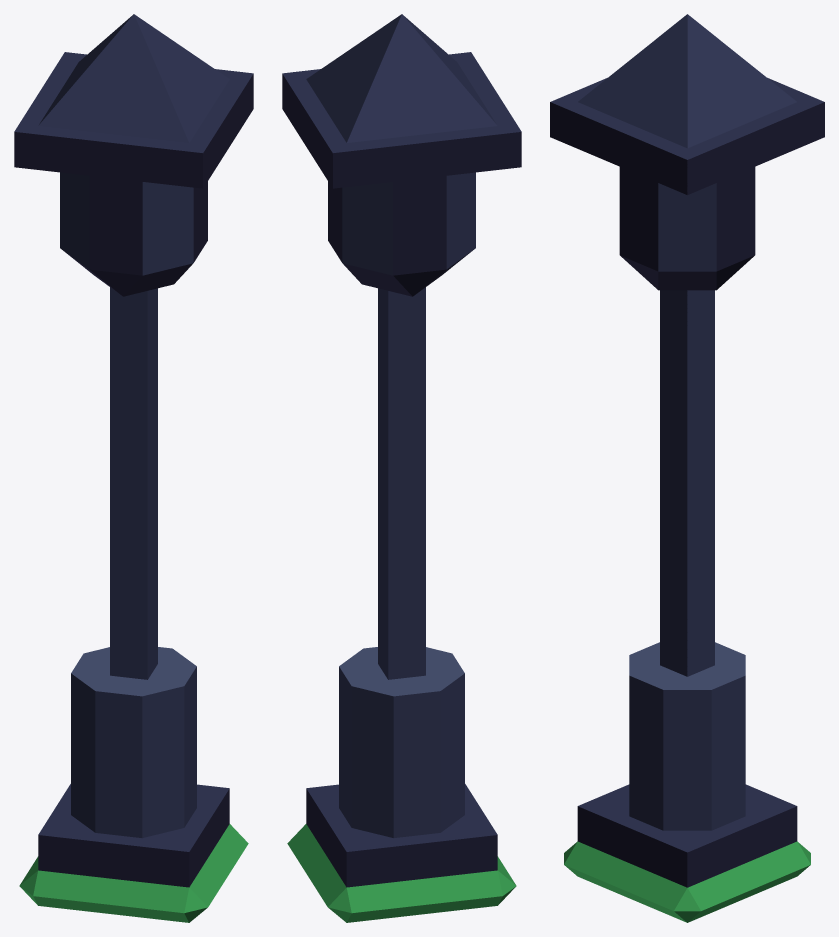
File: LampostOFF.fbx
The picture shows the model from 3 angles, left to right: view 1: azimuth 30°, elevation 25°; view 2: azimuth 150°, elevation 25°; view 3: azimuth 270°, elevation 25°; orthographic projection.
Parts seen in each view (by area): view 1: cylinder, cuboid_1, pyramid, beveled_cuboid, cuboid_2, cuboid, beveled_cuboid_1; view 2: cylinder, cuboid_1, pyramid, beveled_cuboid, cuboid_2, cuboid, beveled_cuboid_1; view 3: cuboid_1, cylinder, pyramid, beveled_cuboid, cuboid_2, cuboid, beveled_cuboid_1.
Part boxes in pixels (x1,y1,x2,y2): cylinder: [71, 647, 196, 838]; cuboid_1: [110, 287, 157, 679]; pyramid: [38, 14, 229, 142]; beveled_cuboid: [60, 172, 207, 296]; cuboid_2: [14, 52, 253, 188]; cuboid: [38, 784, 229, 887]; beveled_cuboid_1: [19, 824, 248, 922]; cylinder: [339, 647, 464, 838]; cuboid_1: [378, 287, 425, 679]; pyramid: [306, 14, 497, 142]; beveled_cuboid: [328, 172, 475, 296]; cuboid_2: [282, 52, 521, 188]; cuboid: [306, 784, 497, 887]; beveled_cuboid_1: [287, 824, 516, 922]; cuboid_1: [660, 290, 714, 676]; cylinder: [629, 642, 745, 830]; pyramid: [578, 14, 796, 148]; beveled_cuboid: [619, 167, 755, 290]; cuboid_2: [550, 78, 824, 194]; cuboid: [577, 784, 797, 887]; beveled_cuboid_1: [564, 841, 810, 922].
Size of the model in its own units: 88.39 by 306 by 88.39.
Materials: 1 (1 with a texture image).
